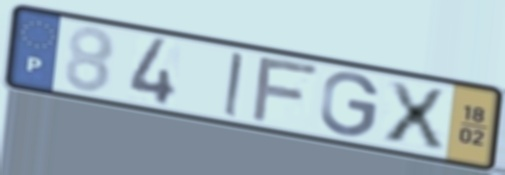4: (127, 35, 180, 108)
8: (61, 24, 119, 95)
F: (247, 55, 323, 125)
G: (317, 70, 383, 139)
I: (221, 49, 246, 120)
X: (381, 77, 448, 152)
